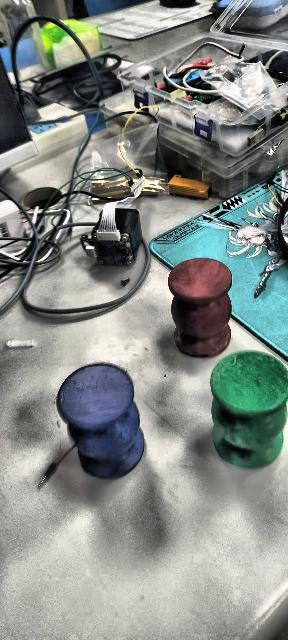blue: (57, 362, 145, 478)
green: (206, 346, 288, 474)
red: (165, 257, 238, 359)
